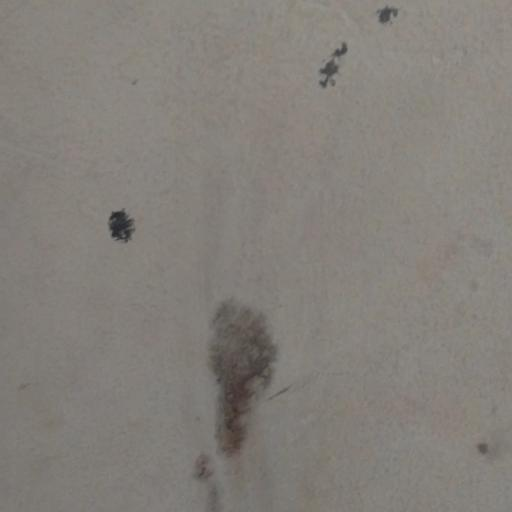stain: (180, 280, 302, 512), (94, 199, 162, 259), (308, 31, 359, 102), (470, 426, 506, 471), (373, 0, 410, 38)
